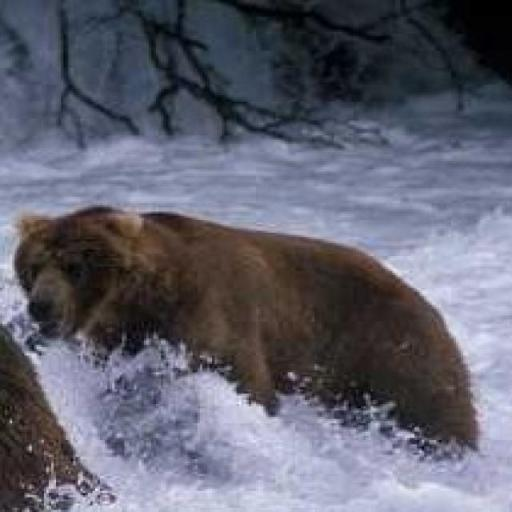Bear: (12, 202, 480, 464)
